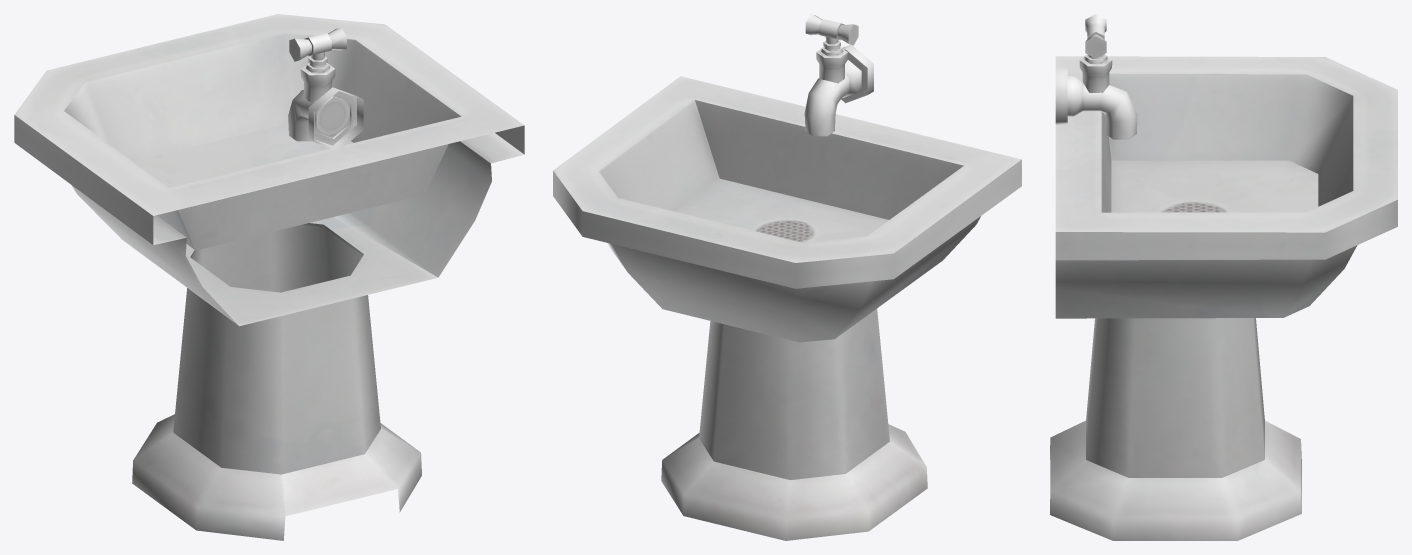
Rendered from Prfb_Indoors_WC.fbx.
3 renders of one model, left to right at view 1: azimuth 30°, elevation 25°; view 2: azimuth 150°, elevation 25°; view 3: azimuth 270°, elevation 25°, orthographic. The views are drawn at different scales.
Visible parts, largest first — view 1: Mat_Indoors_WC_01; view 2: Mat_Indoors_WC_01; view 3: Mat_Indoors_WC_01.
Part boxes in pixels (<box>): Mat_Indoors_WC_01: <box>14,14,524,540</box>; Mat_Indoors_WC_01: <box>553,14,1021,540</box>; Mat_Indoors_WC_01: <box>1050,14,1397,540</box>.
Bounding box in the file's own units: 1 × 1.23 × 0.8398.
1 material, 1 textured.
